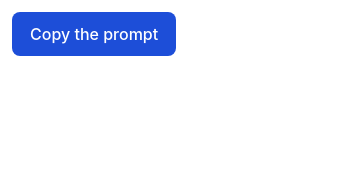
it: CopyButton › selects nothing when the text it names is not on the screen
Step 1. Click the button "Copy the prompt" → point(94, 34), box [12, 12, 176, 56]
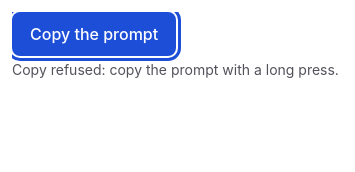
Check: the text "Copy refused: copy the prompt with a long press." is shown, box [12, 60, 339, 80]
